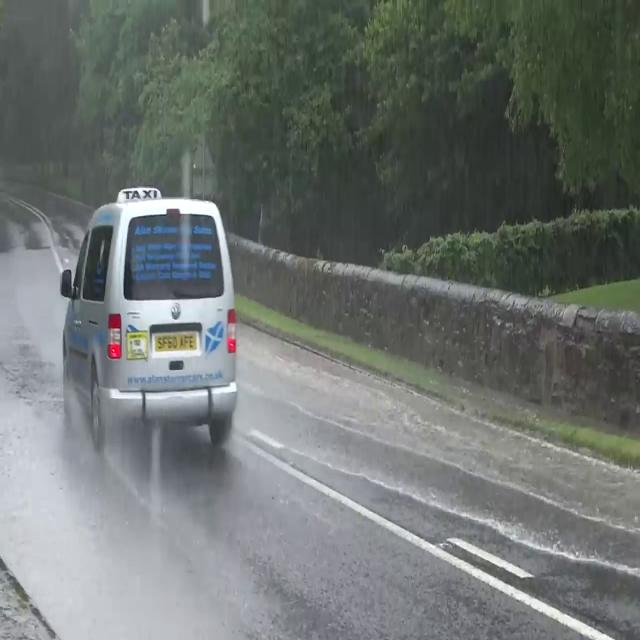license-plate-annotation: (149, 323, 204, 356)
